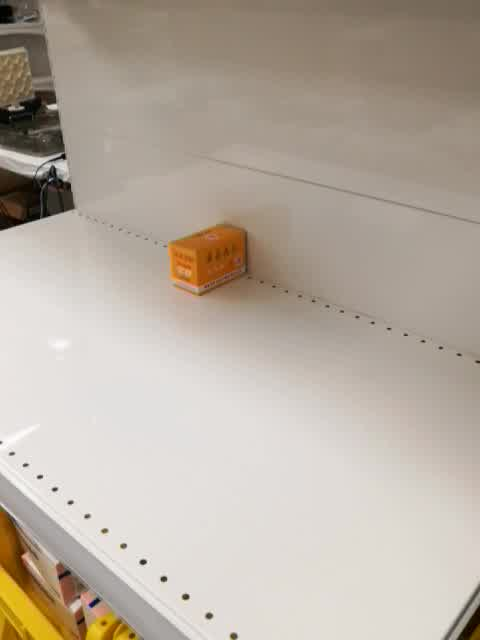jasminetea: (166, 221, 250, 297)
